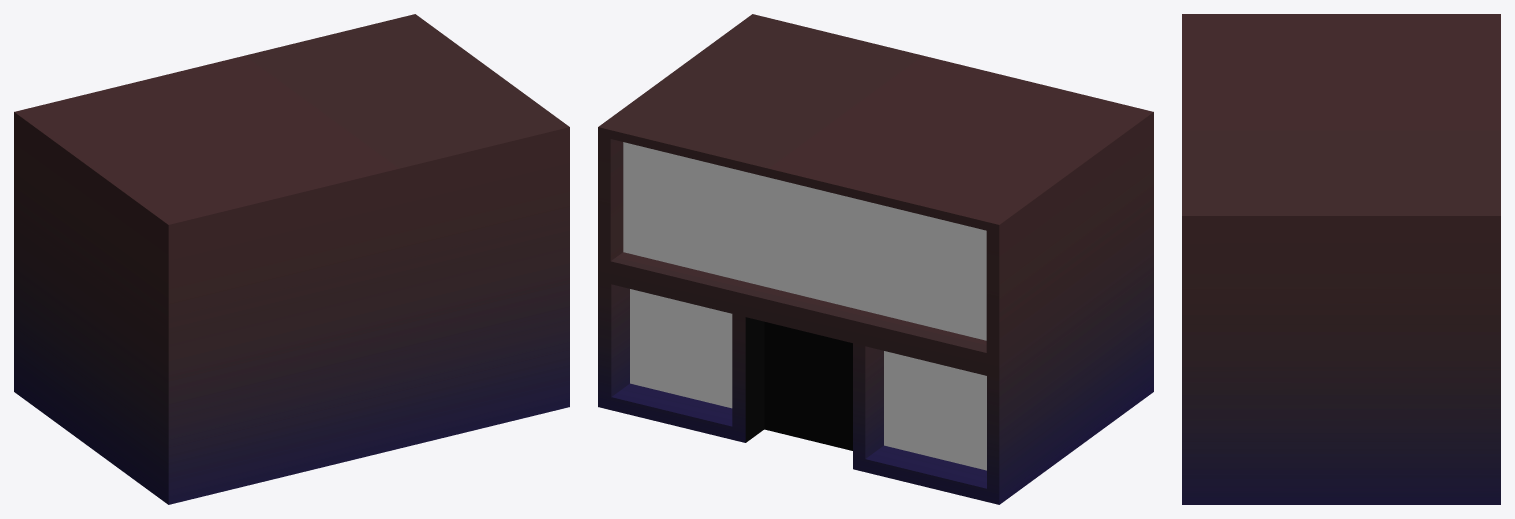
Rendered from Building5.fbx.
The picture shows the model from 3 angles, left to right: view 1: azimuth 30°, elevation 25°; view 2: azimuth 150°, elevation 25°; view 3: azimuth 270°, elevation 25°; orthographic projection. The views are drawn at different scales.
Visible parts, largest first — view 1: Cube; view 2: Cube; view 3: Cube.
Boxes of the visible parts, x1,y1,x2,y2 form: Cube: (14, 14, 569, 504); Cube: (598, 14, 1153, 504); Cube: (1182, 14, 1500, 504).
Size of the model in its own units: 3000 by 2000 by 2000.
